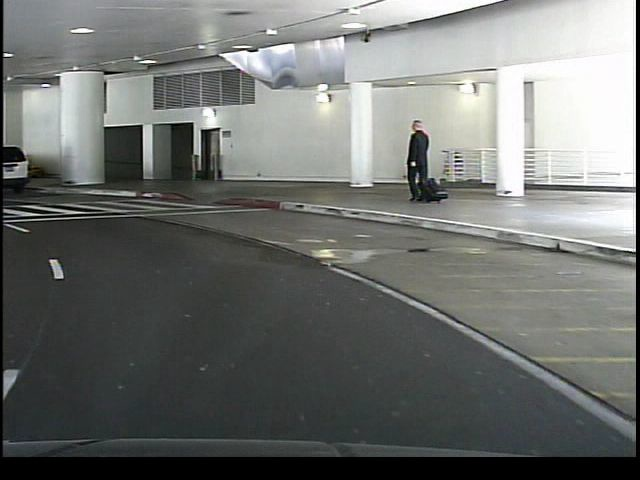person: (397, 119, 435, 204)
